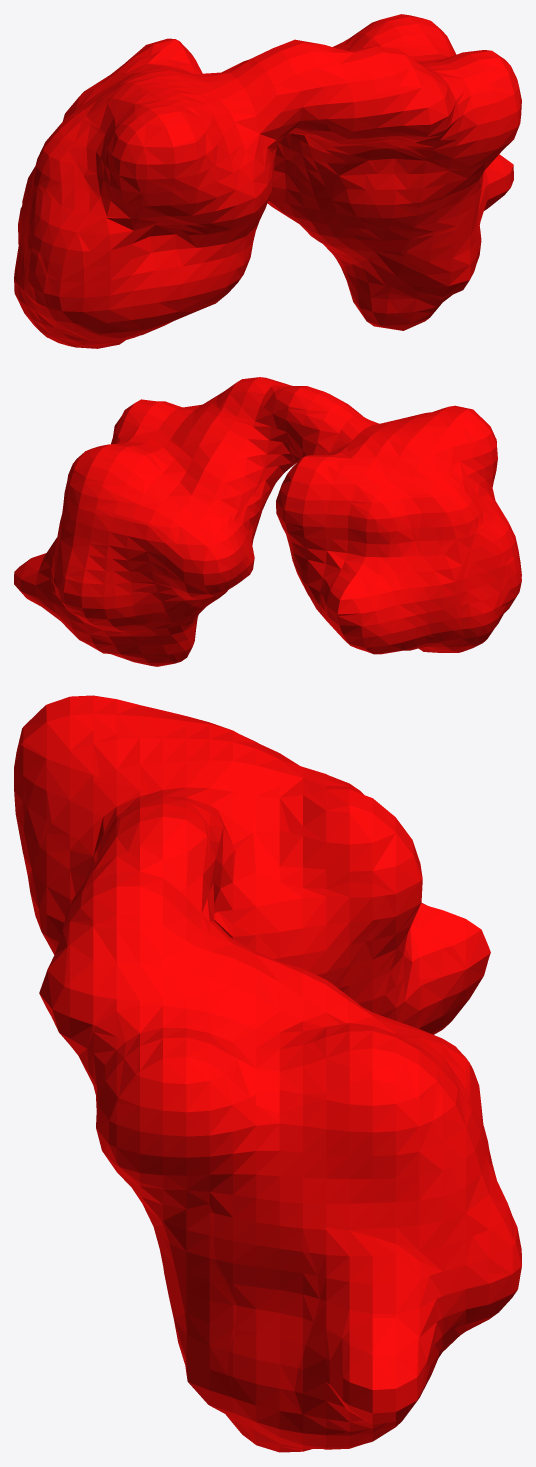
File: rimM_coarse.dae
3 renders of one model, top to bottom at view 1: azimuth 30°, elevation 25°; view 2: azimuth 150°, elevation 25°; view 3: azimuth 270°, elevation 25°, orthographic. The views are drawn at different scales.
Visible parts, largest first — view 1: rimM; view 2: rimM; view 3: rimM.
Boxes of the visible parts, box(x1,y1,x2,y2) form: rimM: box(14, 14, 521, 348); rimM: box(14, 377, 521, 666); rimM: box(14, 695, 521, 1452).
Size of the model in its own units: 73.58 by 44.29 by 38.71.
